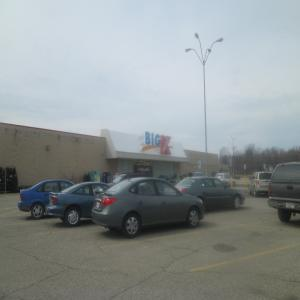Vehicle-registration-plate: (287, 203, 295, 210), (96, 203, 101, 209)
